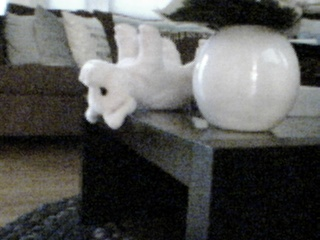piggy: (76, 22, 193, 131)
